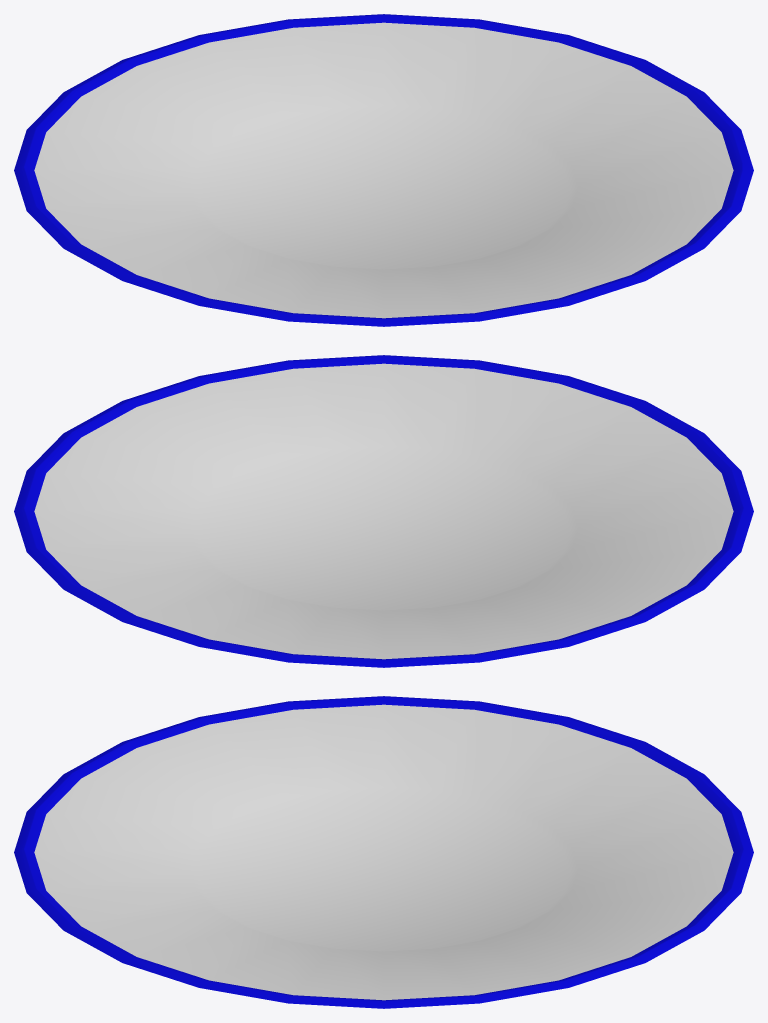
File: plate.glb
3 renders of one model, top to bottom at view 1: azimuth 30°, elevation 25°; view 2: azimuth 150°, elevation 25°; view 3: azimuth 270°, elevation 25°, orthographic.
Parts seen in each view (by area): view 1: plate; view 2: plate; view 3: plate.
Boxes of the visible parts, x1=… form: plate: x1=14, y1=14, x2=753, y2=326; plate: x1=14, y1=355, x2=753, y2=667; plate: x1=14, y1=696, x2=753, y2=1008.
Bounding box in the file's own units: 0.3963 × 0.017 × 0.3963.
